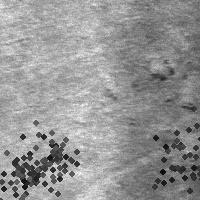rolled-in_scale: (1, 109, 97, 200), (128, 95, 200, 200), (123, 58, 195, 113), (0, 134, 57, 200)
